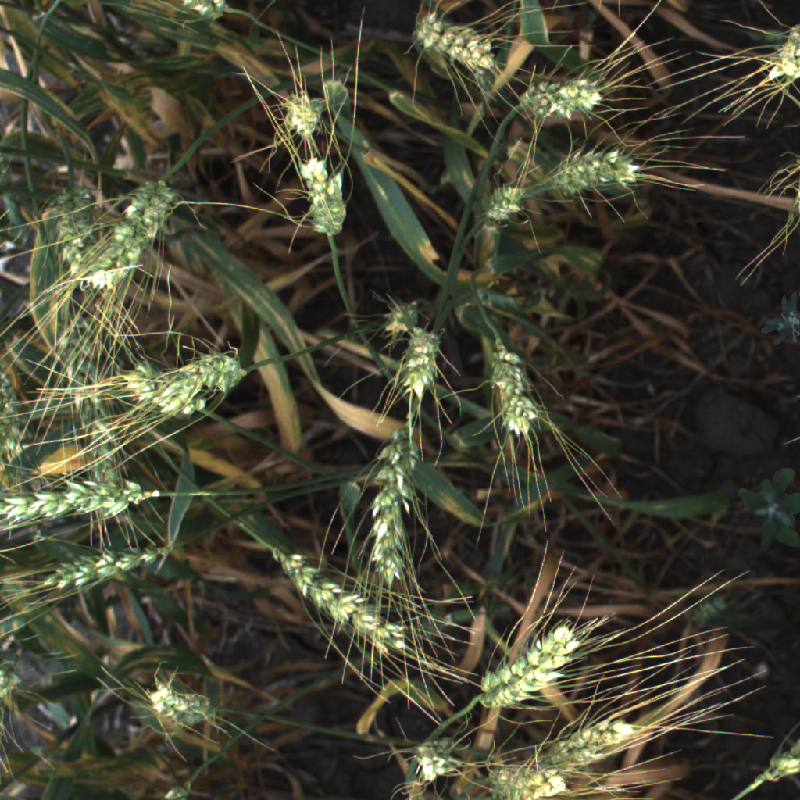spikelet: (278, 546, 417, 653), (352, 410, 425, 596), (61, 325, 126, 503), (471, 620, 584, 710), (1, 468, 167, 528), (95, 175, 179, 285), (513, 713, 650, 778), (37, 540, 178, 597), (487, 331, 546, 440), (391, 307, 451, 403), (412, 13, 496, 67), (474, 760, 586, 800), (750, 18, 800, 101), (44, 182, 91, 270), (550, 151, 637, 196), (132, 680, 217, 726), (514, 74, 602, 116), (300, 153, 345, 232), (126, 368, 200, 415), (168, 350, 243, 394), (1, 364, 30, 455), (371, 294, 425, 336), (278, 89, 323, 139), (405, 738, 460, 778), (478, 181, 524, 222), (167, 1, 239, 22)
weed: (738, 468, 800, 551), (755, 290, 800, 348)
